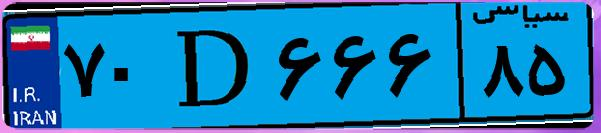0: (110, 28, 158, 98)
5: (525, 38, 570, 115)
6: (270, 28, 330, 110), (385, 28, 445, 110), (330, 28, 385, 110)
7: (57, 26, 110, 100)
8: (475, 38, 525, 113)
D: (158, 12, 270, 120)
